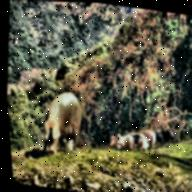boar: (13, 81, 123, 167)
